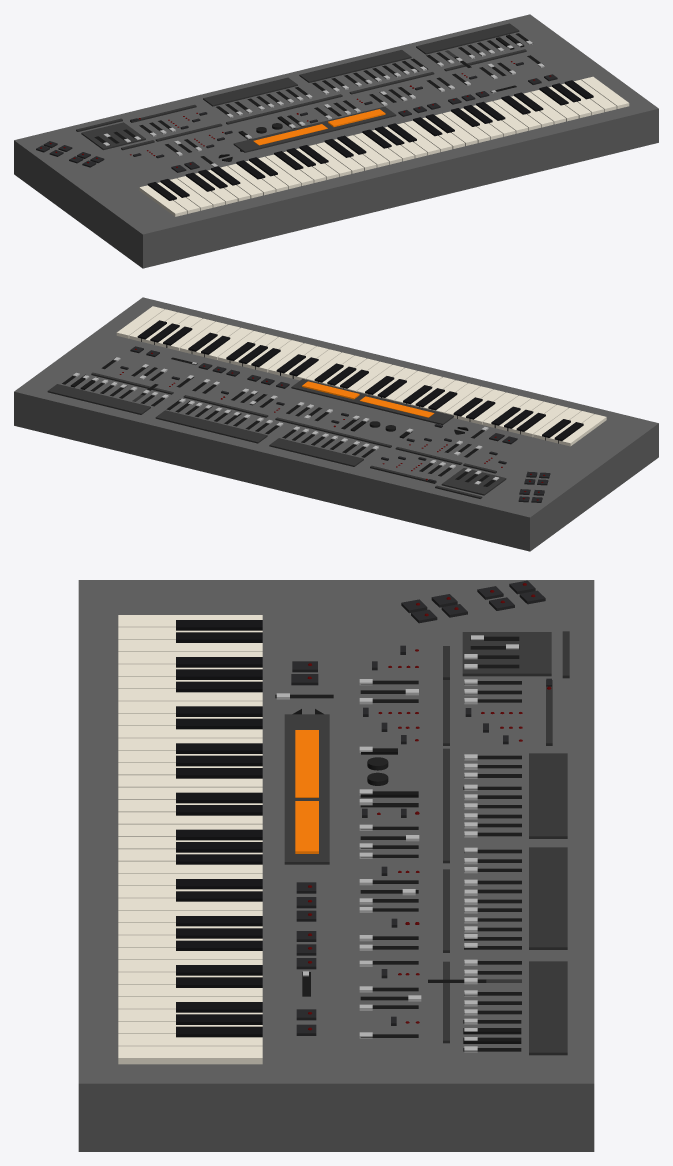
3 views of the same model, one above another, from view 1: azimuth 30°, elevation 25°; view 2: azimuth 150°, elevation 25°; view 3: azimuth 270°, elevation 25° (orthographic). The views are drawn at different scales.
Visible parts, largest first — view 1: synth_body.1, panel1.1, panel3, panel3.1, panel2, panel1, Key_C1, Key_C6, panel1.2, Key_F1, Key_F4, Key_F5 (+18 smaller); view 2: synth_body.1, panel1.1, panel3, panel3.1, panel2, panel1, Key_C1, Key_C6, panel1.2, Key_F1, Key_F4, Key_F5 (+14 smaller); view 3: synth_body.1, panel1.1, panel3, panel3.1, panel2, panel1, Key_C6, panel1.2, Key_E3, Key_B3, Key_B2, Key_E2 (+58 smaller).
Part boxes in pixels (left/top/right/bottom): synth_body.1: left=14, top=14, right=658, bottom=268; panel1.1: left=233, top=106, right=396, bottom=152; panel3: left=299, top=50, right=411, bottom=82; panel3.1: left=416, top=23, right=519, bottom=54; panel2: left=203, top=77, right=297, bottom=106; panel1: left=81, top=122, right=145, bottom=150; Key_C1: left=139, top=185, right=187, bottom=216; Key_C6: left=581, top=76, right=629, bottom=108; panel1.2: left=253, top=124, right=327, bottom=145; Key_F1: left=177, top=176, right=225, bottom=207; Key_F4: left=442, top=111, right=490, bottom=142; Key_F5: left=530, top=90, right=578, bottom=121; synth_body.1: left=14, top=297, right=658, bottom=551; panel1.1: left=291, top=379, right=453, bottom=425; panel3: left=155, top=410, right=267, bottom=443; panel3.1: left=47, top=384, right=150, bottom=414; panel2: left=269, top=438, right=363, bottom=466; panel1: left=441, top=468, right=506, bottom=495; Key_C1: left=558, top=414, right=606, bottom=446; Key_C6: left=116, top=306, right=164, bottom=338; panel1.2: left=360, top=396, right=434, bottom=417; Key_F1: left=520, top=405, right=568, bottom=437; Key_F4: left=255, top=340, right=303, bottom=372; Key_F5: left=167, top=318, right=215, bottom=350; synth_body.1: left=78, top=580, right=594, bottom=1151; panel1.1: left=284, top=714, right=329, bottom=864; panel3: left=529, top=847, right=567, bottom=949; panel3.1: left=529, top=961, right=567, bottom=1055; panel2: left=529, top=753, right=567, bottom=838; panel1: left=462, top=632, right=551, bottom=676; Key_C6: left=118, top=1046, right=262, bottom=1064; panel1.2: left=295, top=730, right=318, bottom=797; Key_E3: left=118, top=812, right=262, bottom=824; Key_B3: left=118, top=861, right=262, bottom=873; Key_B2: left=118, top=775, right=262, bottom=787; Key_E2: left=118, top=726, right=262, bottom=738.
Size of what is drawn, in the model's own units: 7.96 by 0.6379 by 3.44.
